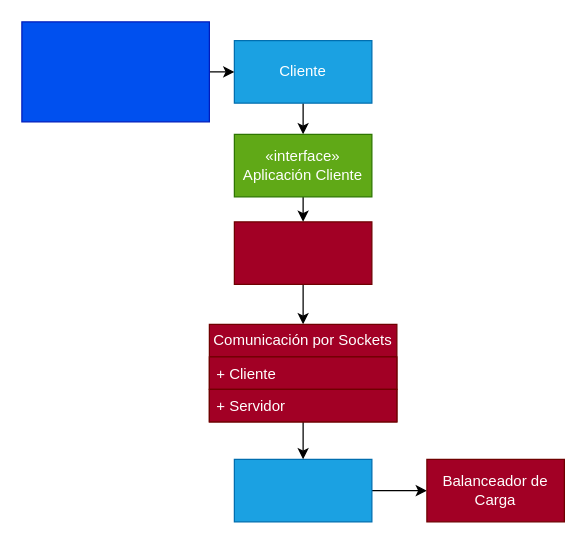
Image size: 586x544. Some labels were removed from this diagram. Each missing label, with the box of its shape:
OpenMarket: (21, 21, 209, 122)
Repositorio Remoto: (233, 221, 372, 284)
Servidor: (233, 458, 372, 522)
